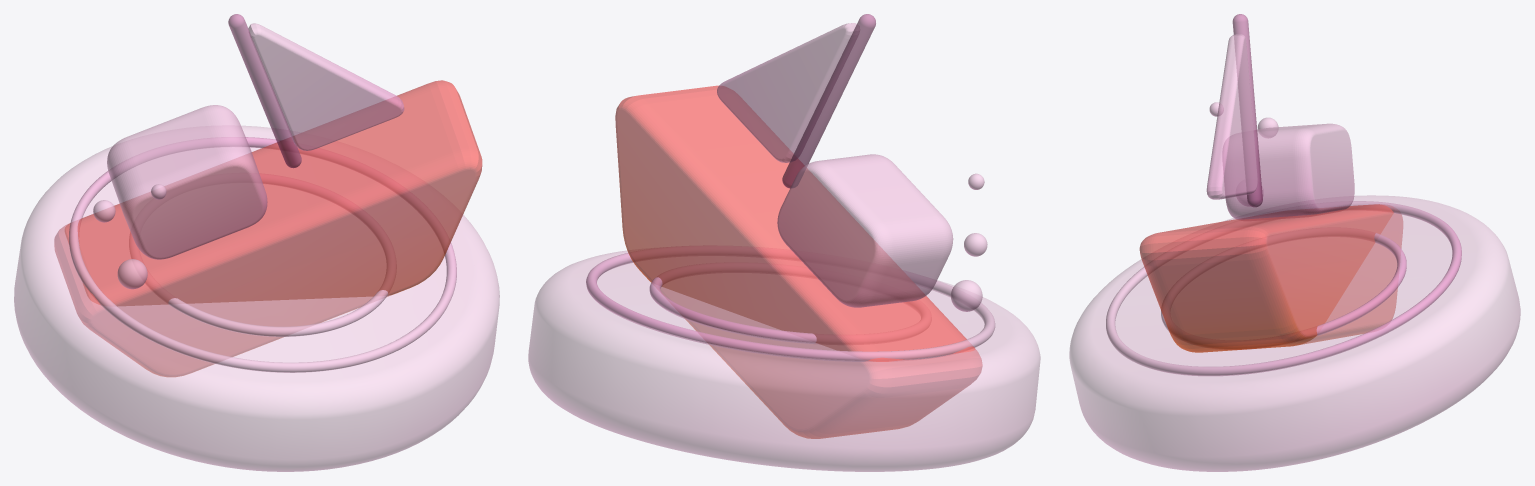
File: sinking-boat.glb
3 views of the same model, side by side, from view 1: azimuth 30°, elevation 25°; view 2: azimuth 150°, elevation 25°; view 3: azimuth 270°, elevation 25° (orthographic). The views are drawn at different scales.
Visible parts, largest first — view 1: water, hull, cabin, sail, ripple_2, ripple_1, mast, bubble_1; view 2: hull, water, cabin, sail, ripple_2, ripple_1, mast, bubble_1; view 3: water, hull, cabin, ripple_2, sail, ripple_1, mast.
Boxes of the visible parts, box(x1,y1,x2,y2) form: water: box(14, 125, 499, 471); hull: box(54, 80, 482, 376); cabin: box(107, 105, 267, 259); sail: box(248, 23, 404, 150); ripple_2: box(69, 137, 456, 372); ripple_1: box(129, 174, 396, 336); mast: box(228, 14, 301, 168); bubble_1: box(117, 259, 147, 289); hull: box(615, 85, 982, 438); water: box(528, 250, 1040, 471); cabin: box(777, 154, 953, 307); sail: box(717, 23, 859, 162); ripple_2: box(586, 246, 995, 361); ripple_1: box(649, 263, 931, 343); mast: box(782, 14, 875, 188); bubble_1: box(950, 280, 982, 311); water: box(1069, 195, 1520, 471); hull: box(1139, 204, 1402, 352); cabin: box(1223, 123, 1354, 220); ripple_2: box(1106, 201, 1461, 375); sail: box(1206, 34, 1257, 199); ripple_1: box(1161, 228, 1406, 349); mast: box(1232, 14, 1262, 207).
Bounding box in the file's own units: 1.12 × 1.04 × 1.12.
